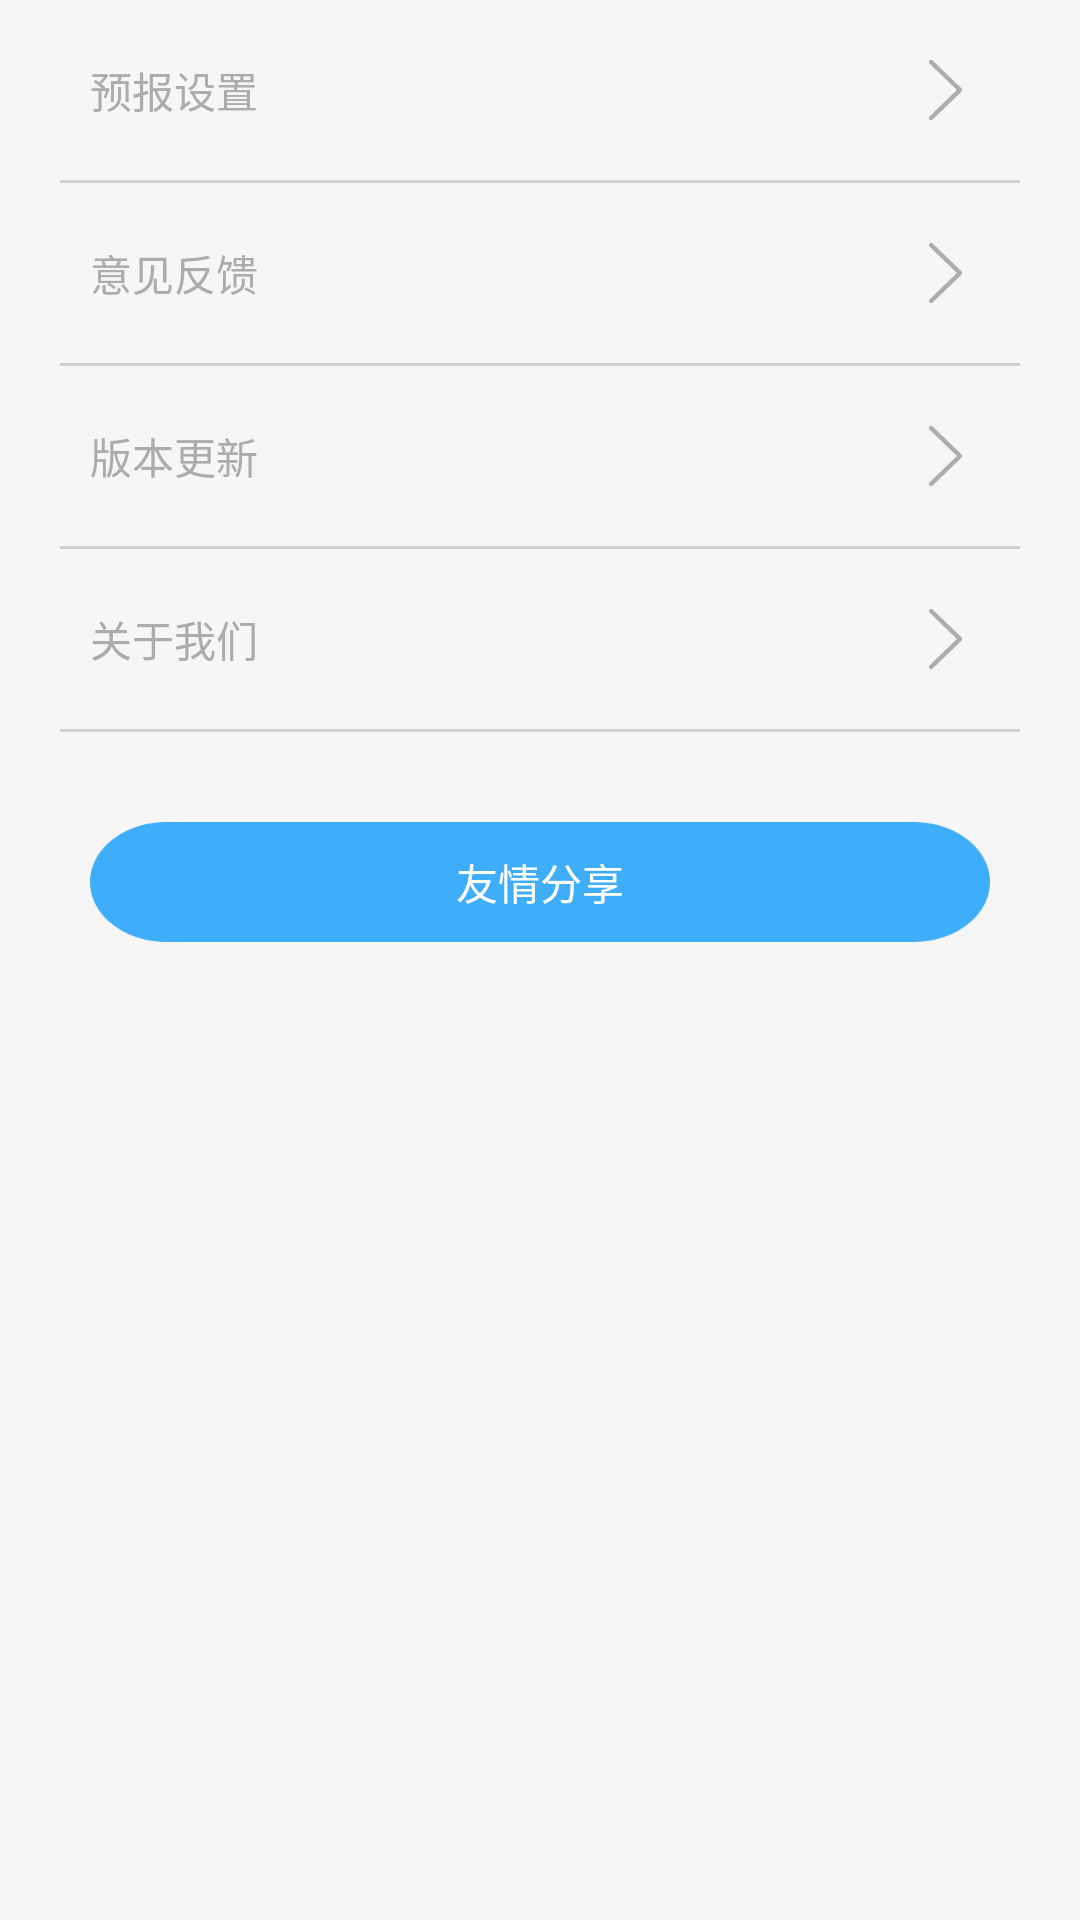

Where to tap for icons on this 1080px×1920px app screen, as (x=x, y=y):
more: (x=945, y=90), (x=945, y=273), (x=945, y=456), (x=945, y=639)
